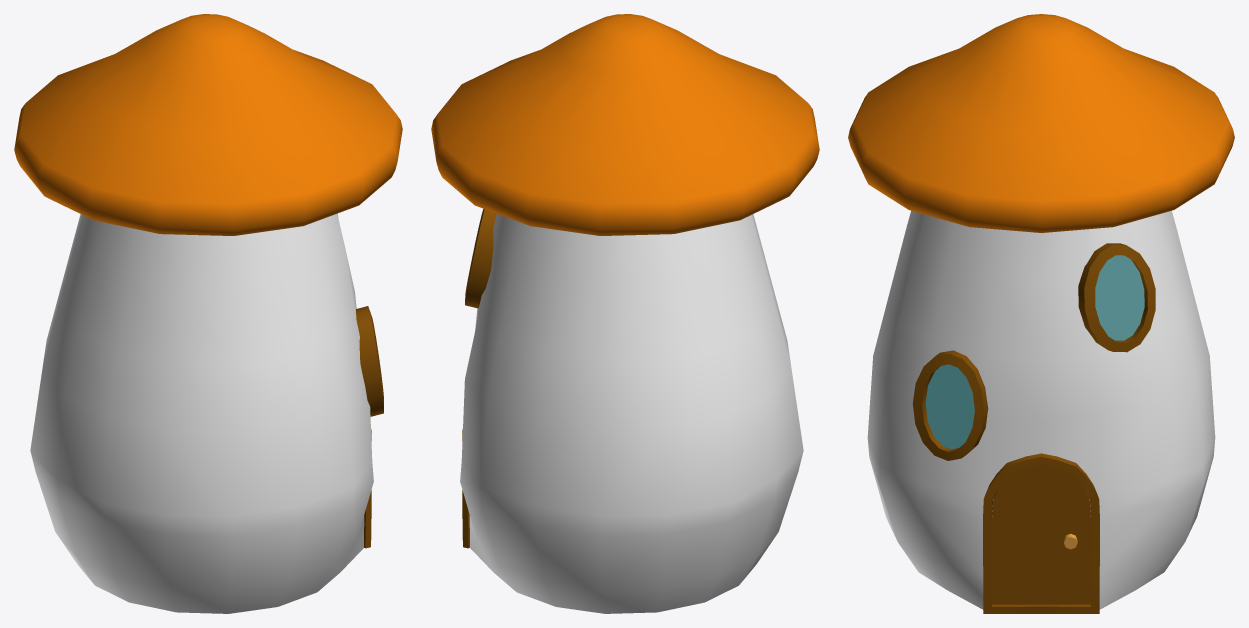
Rendered from Mushroom_Tall(2).fbx.
The picture shows the model from 3 angles, left to right: view 1: azimuth 30°, elevation 25°; view 2: azimuth 150°, elevation 25°; view 3: azimuth 270°, elevation 25°; orthographic projection.
Parts seen in each view (by area): view 1: Door; view 2: Door; view 3: Door.
Boxes of the visible parts, x1,y1,x2,y2 form: Door: (14,14,402,613); Door: (431,14,819,613); Door: (848,14,1234,613).
Size of the model in its own units: 992 by 1491 by 989.
